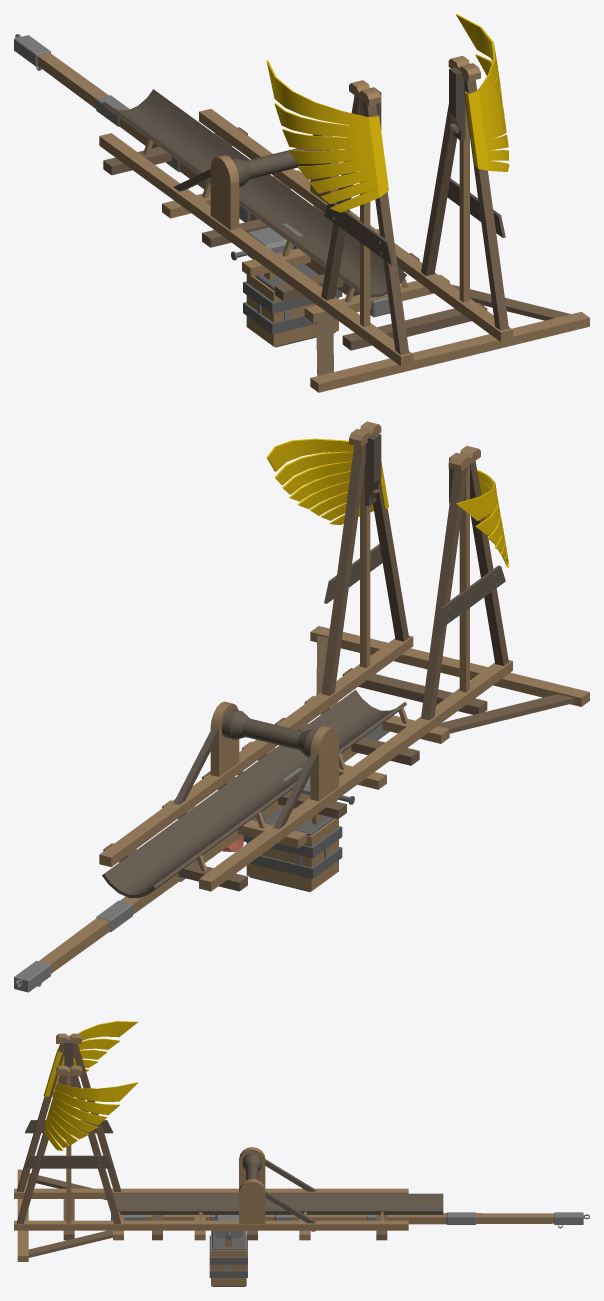
The model's file is Trebuchet_Arm.fbx.
3 renders of one model, top to bottom at view 1: azimuth 30°, elevation 25°; view 2: azimuth 150°, elevation 25°; view 3: azimuth 270°, elevation 25°, orthographic. The views are drawn at different scales.
Visible parts, largest first — view 1: Trebuchet_Base, Trebuchet_Arm, Trebuchet_counterweight; view 2: Trebuchet_Base, Trebuchet_Arm, Trebuchet_counterweight; view 3: Trebuchet_Base, Trebuchet_Arm, Trebuchet_counterweight.
Boxes of the visible parts, x1,y1,x2,y2 form: Trebuchet_Base: (99,14,589,392); Trebuchet_Arm: (14,34,390,317); Trebuchet_counterweight: (243,264,342,347); Trebuchet_Base: (99,421,589,898); Trebuchet_Arm: (14,723,389,992); Trebuchet_counterweight: (243,806,342,891); Trebuchet_Base: (14,1021,443,1261); Trebuchet_Arm: (111,1212,589,1240); Trebuchet_counterweight: (209,1230,247,1286).
Bounding box in the file's own units: 169 × 206 × 475.
